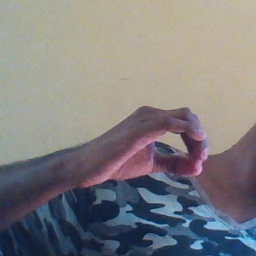O: (85, 96, 217, 190)
